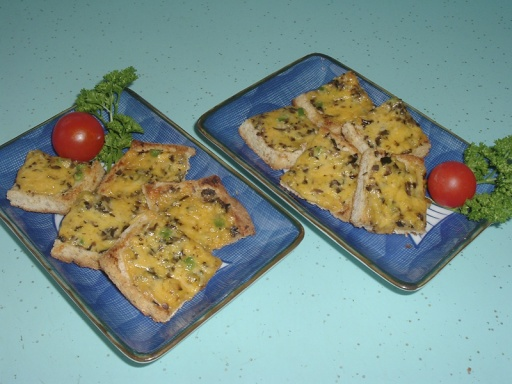background: (5, 38, 205, 193), (190, 41, 409, 141)
